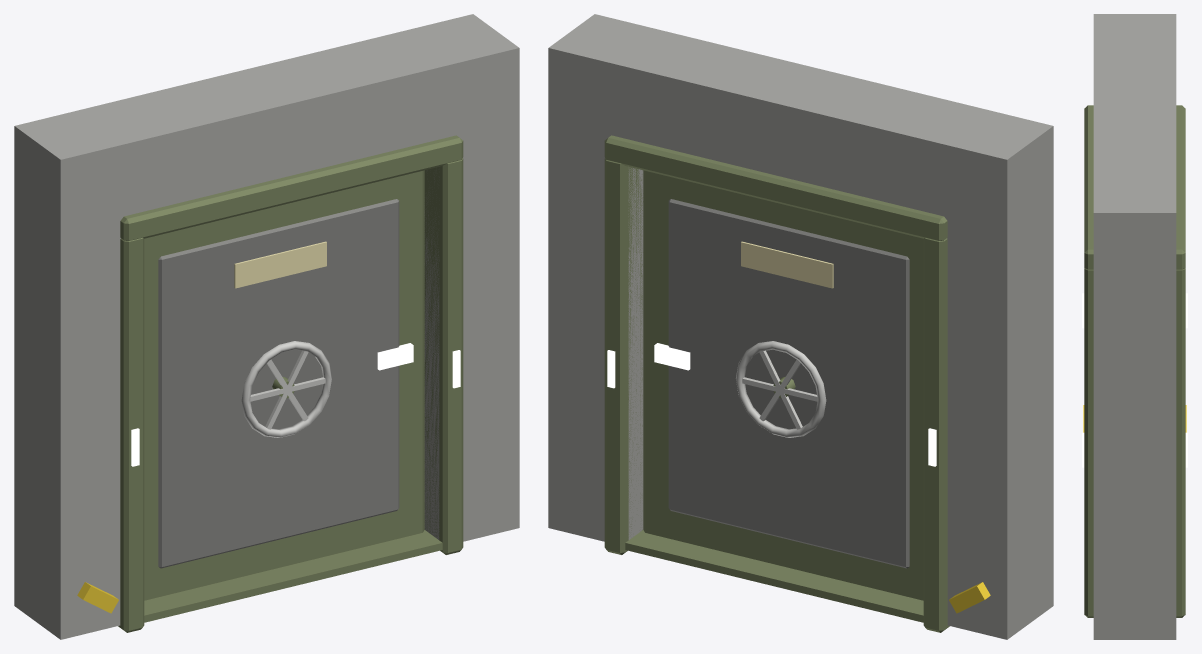
Rendered from door_bk_blast.glb.
3 views of the same model, side by side, from view 1: azimuth 30°, elevation 25°; view 2: azimuth 150°, elevation 25°; view 3: azimuth 270°, elevation 25° (orthographic). The views are drawn at different scales.
Parts seen in each view (by area): view 1: frame, slab; view 2: frame, slab; view 3: frame.
Boxes of the visible parts, left/top/right/bottom form: frame: left=14, top=14, right=519, bottom=639; slab: left=144, top=170, right=424, bottom=600; frame: left=548, top=14, right=1053, bottom=639; slab: left=643, top=170, right=923, bottom=600; frame: left=1082, top=14, right=1187, bottom=639.
Bounding box in the file's own units: 4 × 4.05 × 0.9.
